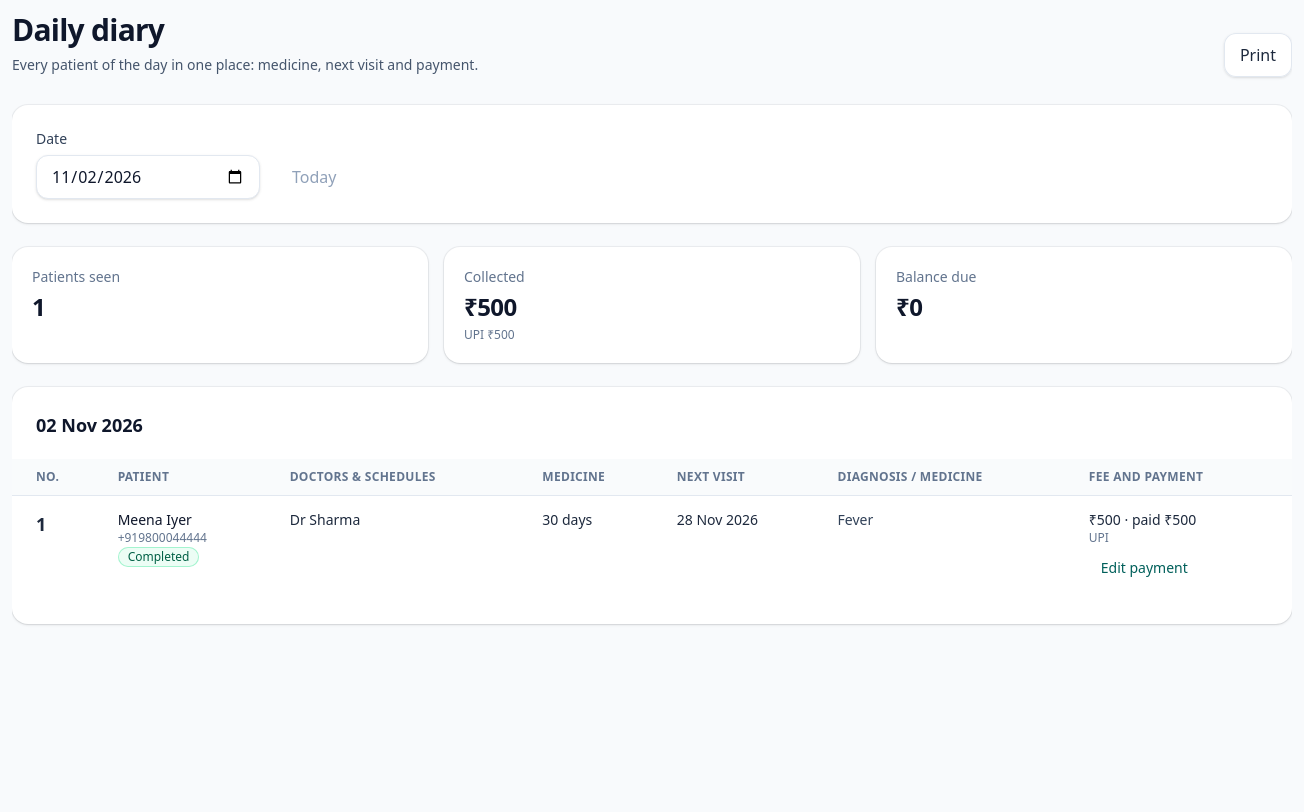
it: daily diary › opens the payment form for a patient
This screenshot has width=1304, height=812.
Click the button "Edit payment".
click(1144, 568)  # box left=1089, top=550, right=1200, bottom=586
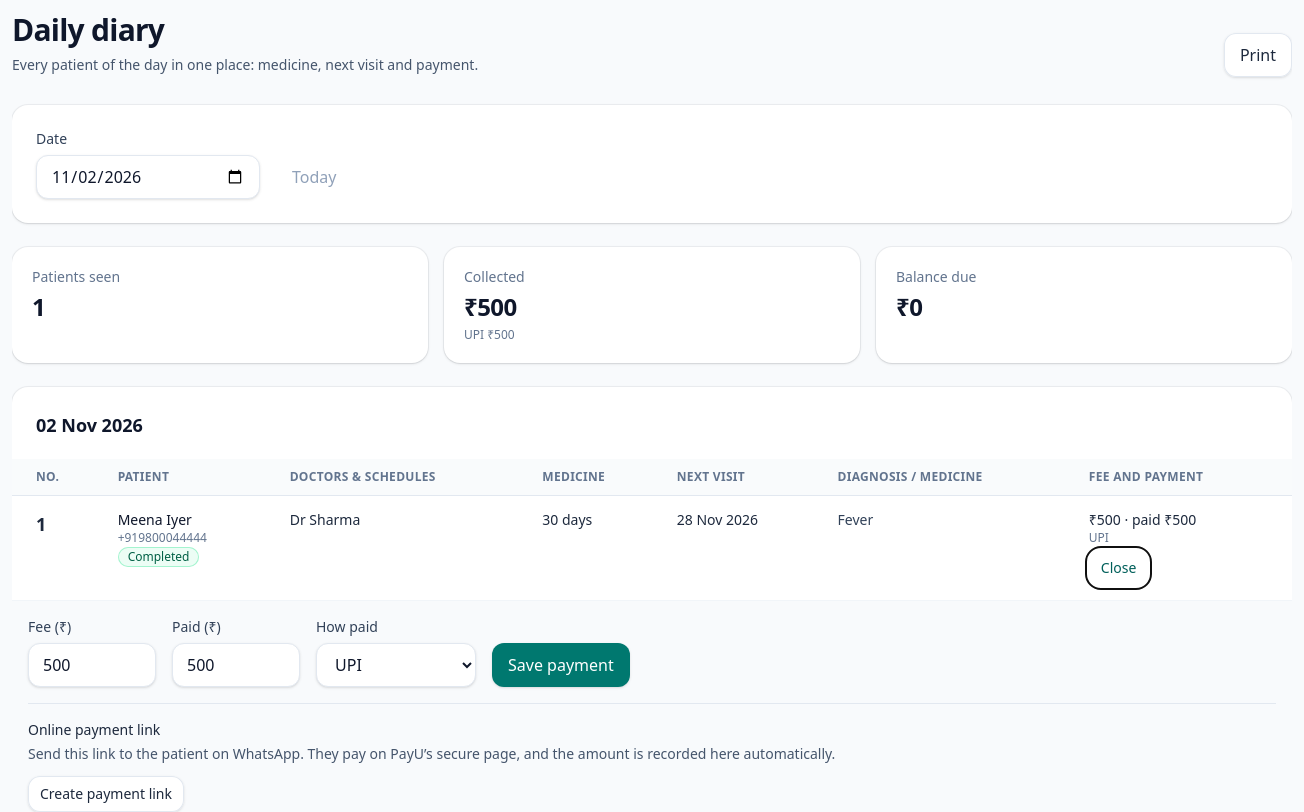
Now the number field labelled "Fee (₹)" holds "500", box left=28, top=643, right=156, bottom=687
Now the button "Save payment" is shown, box left=492, top=643, right=630, bottom=687
